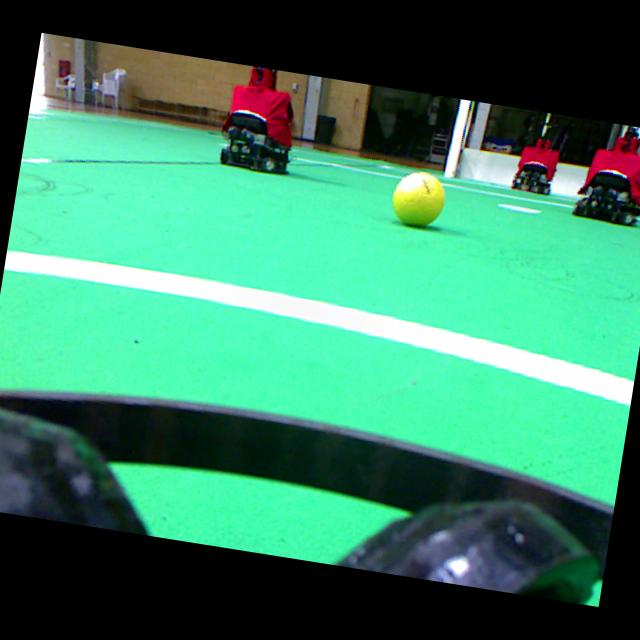ball: (393, 172, 444, 226)
goal: (443, 99, 470, 177)
